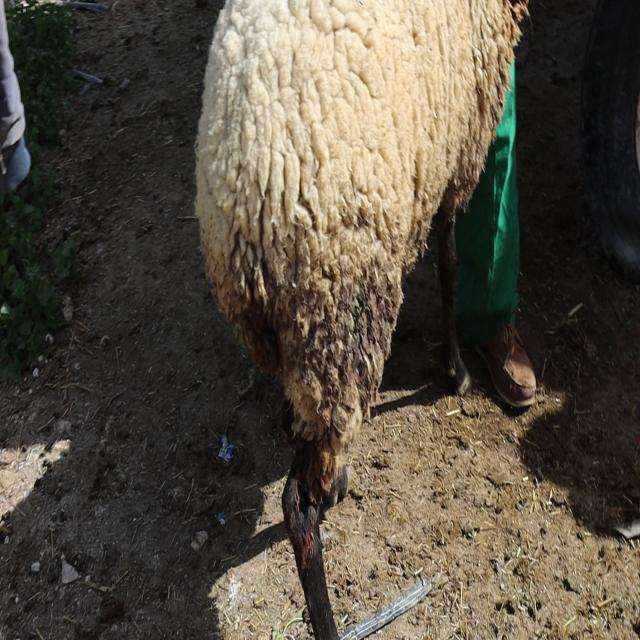Score_5: (196, 0, 528, 639)
